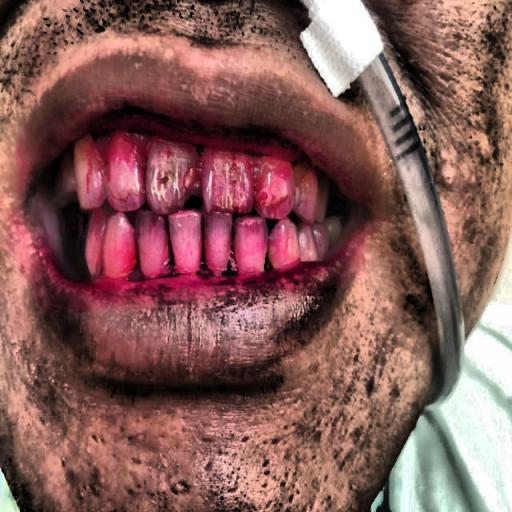Plaque: (67, 113, 330, 268)
